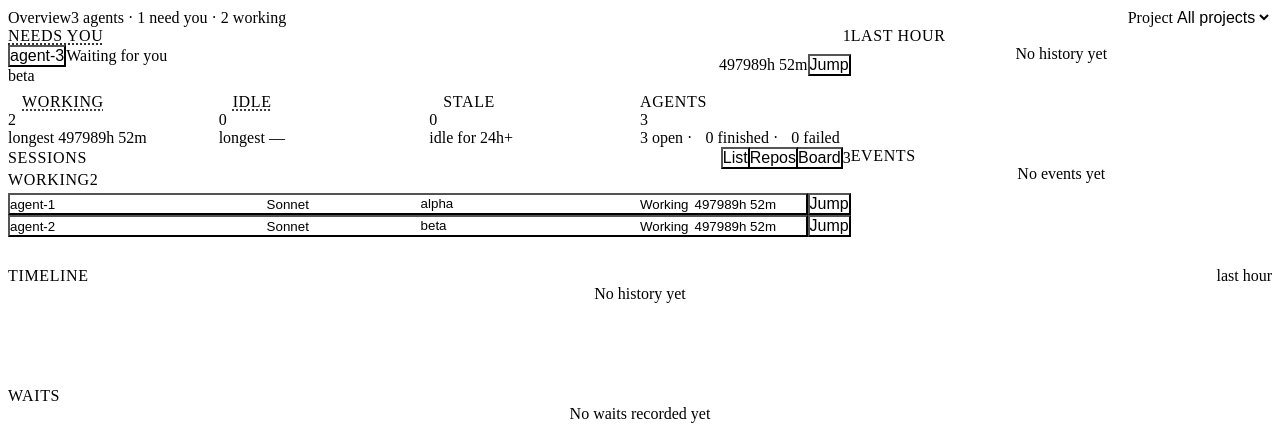
Test: OverviewView › filters sessions by project and remembers the choice
The image size is (1280, 440).
expect the text "3 agents · 1 need you · 2 working" is shown: met, box x1=71 y1=8 x2=286 y2=26
Select "beta" in the dropdown named "Project filter". click: (1222, 18)
box: x1=1173 y1=8 x2=1272 y2=27
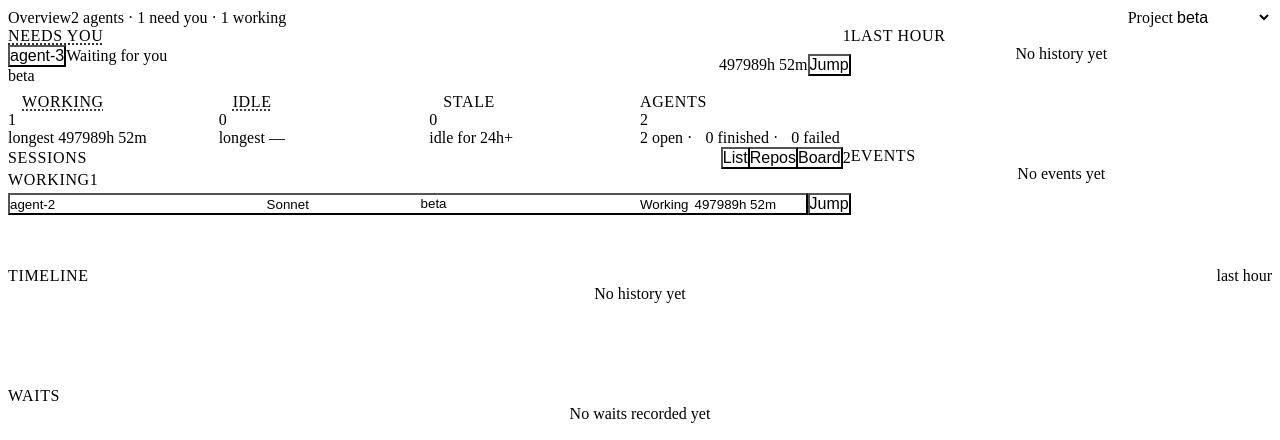
expect the text "agent-2" is shown: met, box x1=10 y1=196 x2=55 y2=212
expect the button "agent-1" is gone: met
expect the text "2 agents · 1 need you · 1 working" is shown: met, box x1=71 y1=8 x2=286 y2=26
